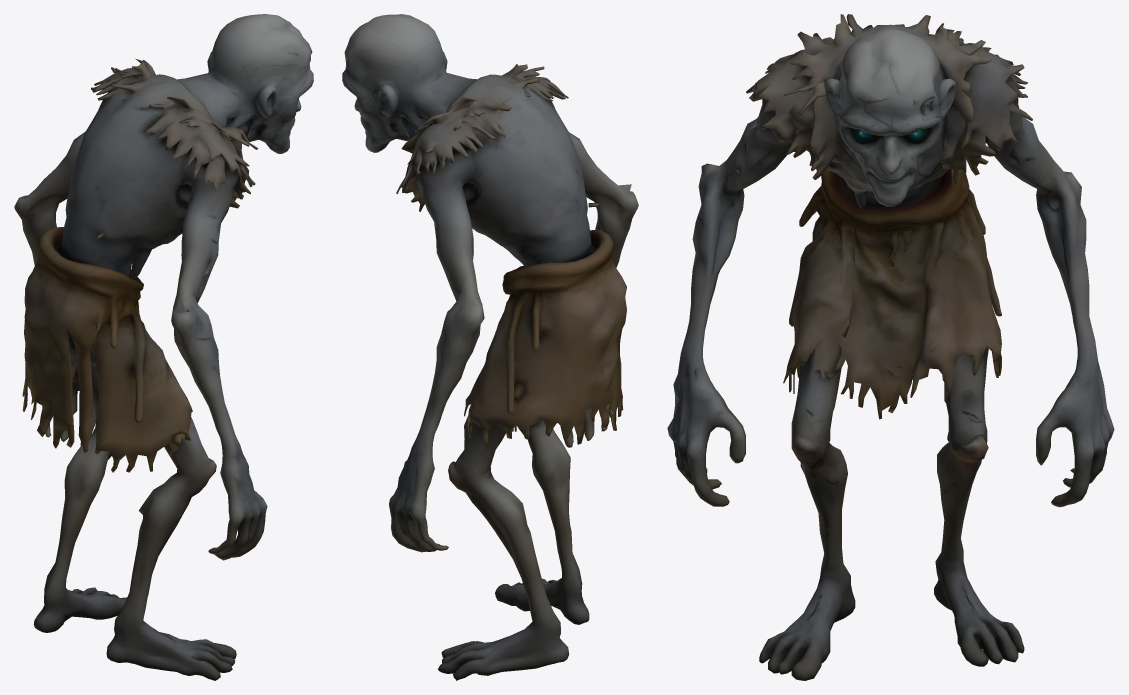
3 renders of one model, left to right at view 1: azimuth 30°, elevation 25°; view 2: azimuth 150°, elevation 25°; view 3: azimuth 270°, elevation 25°, orthographic. The views are drawn at different scales.
Visible parts, largest first — view 1: tripo_node_39283a8f-2707-418e-a58c-e580e33bd07e; view 2: tripo_node_39283a8f-2707-418e-a58c-e580e33bd07e; view 3: tripo_node_39283a8f-2707-418e-a58c-e580e33bd07e.
Part boxes in pixels (bbox=[...]): tripo_node_39283a8f-2707-418e-a58c-e580e33bd07e: bbox=[14, 14, 313, 680]; tripo_node_39283a8f-2707-418e-a58c-e580e33bd07e: bbox=[342, 14, 638, 680]; tripo_node_39283a8f-2707-418e-a58c-e580e33bd07e: bbox=[667, 14, 1114, 680].
Size of the model in its own units: 0.4697 by 1 by 0.591.
1 material, 1 textured.
